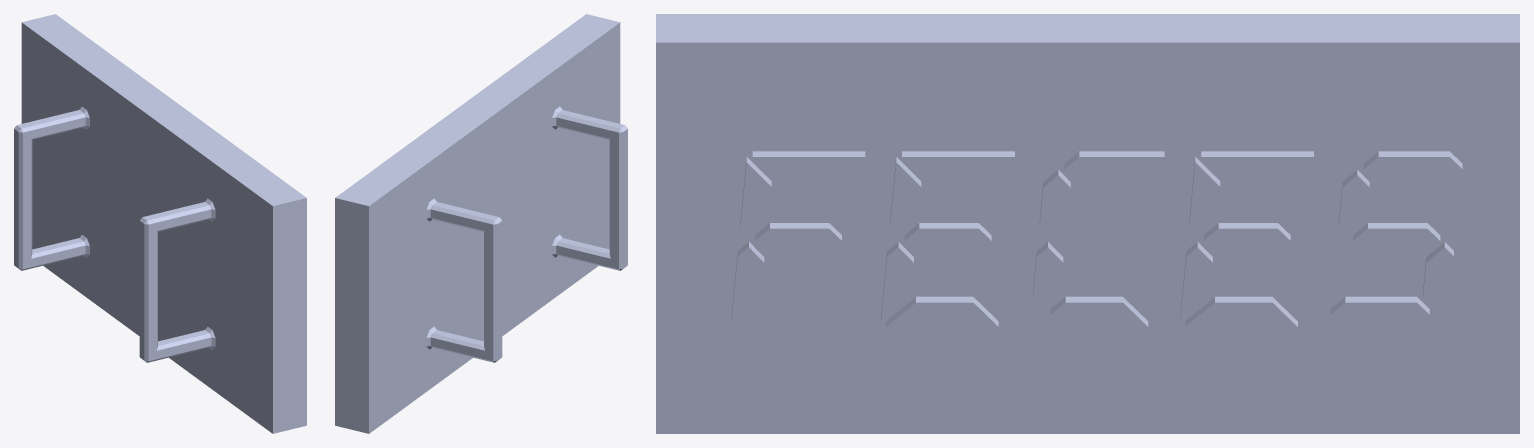
Rendered from Riot Shield Insert.FBX.
The picture shows the model from 3 angles, left to right: view 1: azimuth 30°, elevation 25°; view 2: azimuth 150°, elevation 25°; view 3: azimuth 270°, elevation 25°; orthographic projection. The views are drawn at different scales.
Visible parts, largest first — view 1: Mirror1; view 2: Mirror1; view 3: Mirror1.
Part boxes in pixels (x1=…): Mirror1: x1=14, y1=14, x2=306, y2=433; Mirror1: x1=335, y1=14, x2=627, y2=433; Mirror1: x1=656, y1=14, x2=1519, y2=433.
Bounding box in the file's own units: 4 × 8 × 16.
